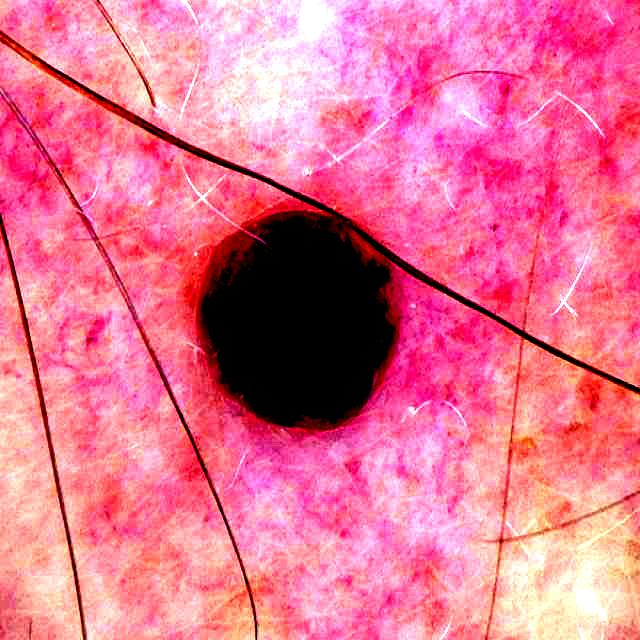VASC: (199, 210, 396, 429)
